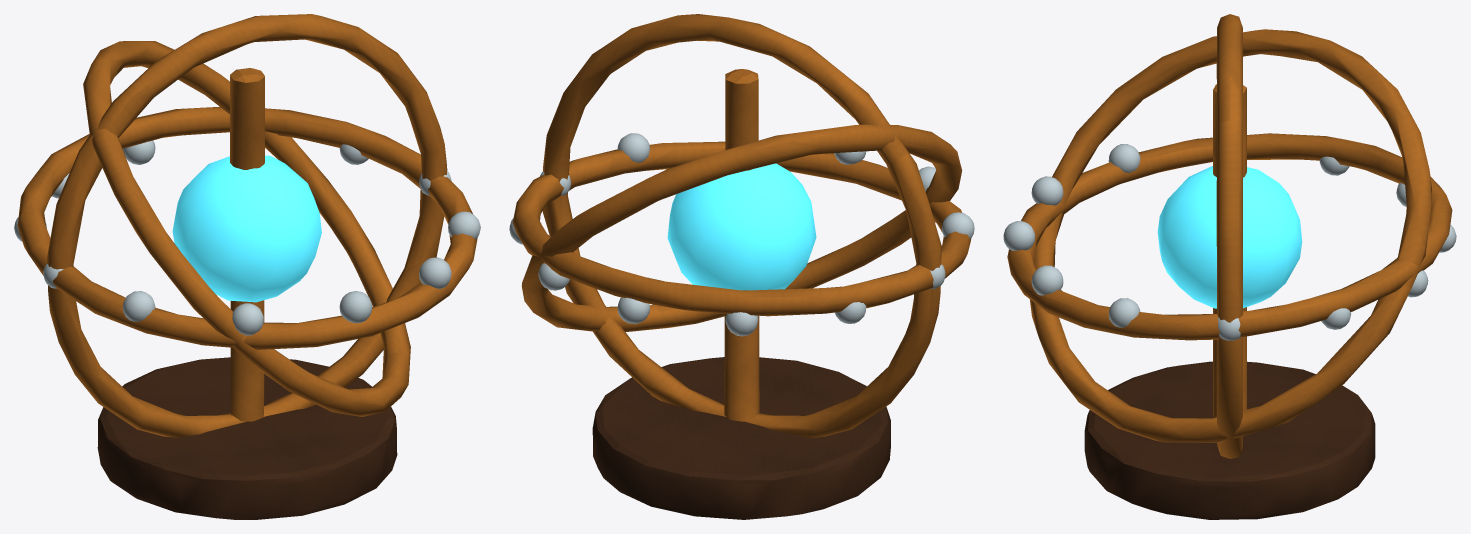
File: relic_08_low.glb
3 views of the same model, side by side, from view 1: azimuth 30°, elevation 25°; view 2: azimuth 150°, elevation 25°; view 3: azimuth 270°, elevation 25° (orthographic). The views are drawn at different scales.
Parts seen in each view (by area): view 1: Brushed_gold, Patinated_bronze, Luminous_aquamarine, Antique_silver; view 2: Brushed_gold, Patinated_bronze, Luminous_aquamarine, Antique_silver; view 3: Brushed_gold, Patinated_bronze, Luminous_aquamarine, Antique_silver.
Part boxes in pixels (<box>): Brushed_gold: <box>17,14,477,437</box>; Patinated_bronze: <box>97,357,397,519</box>; Luminous_aquamarine: <box>172,155,321,302</box>; Antique_silver: <box>14,140,480,335</box>; Brushed_gold: <box>512,14,971,437</box>; Patinated_bronze: <box>592,357,890,519</box>; Luminous_aquamarine: <box>667,163,816,290</box>; Antique_silver: <box>509,133,974,336</box>; Brushed_gold: <box>1007,14,1452,458</box>; Patinated_bronze: <box>1084,361,1375,519</box>; Luminous_aquamarine: <box>1157,166,1302,308</box>; Antique_silver: <box>1003,144,1456,340</box>.
Size of the model in its own units: 0.6238 by 0.6502 by 0.624.
4 materials, 2 textured.
